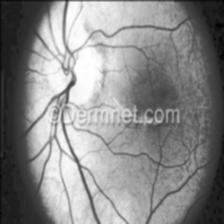Unclassified: (79, 45, 114, 101), (144, 72, 172, 106)
